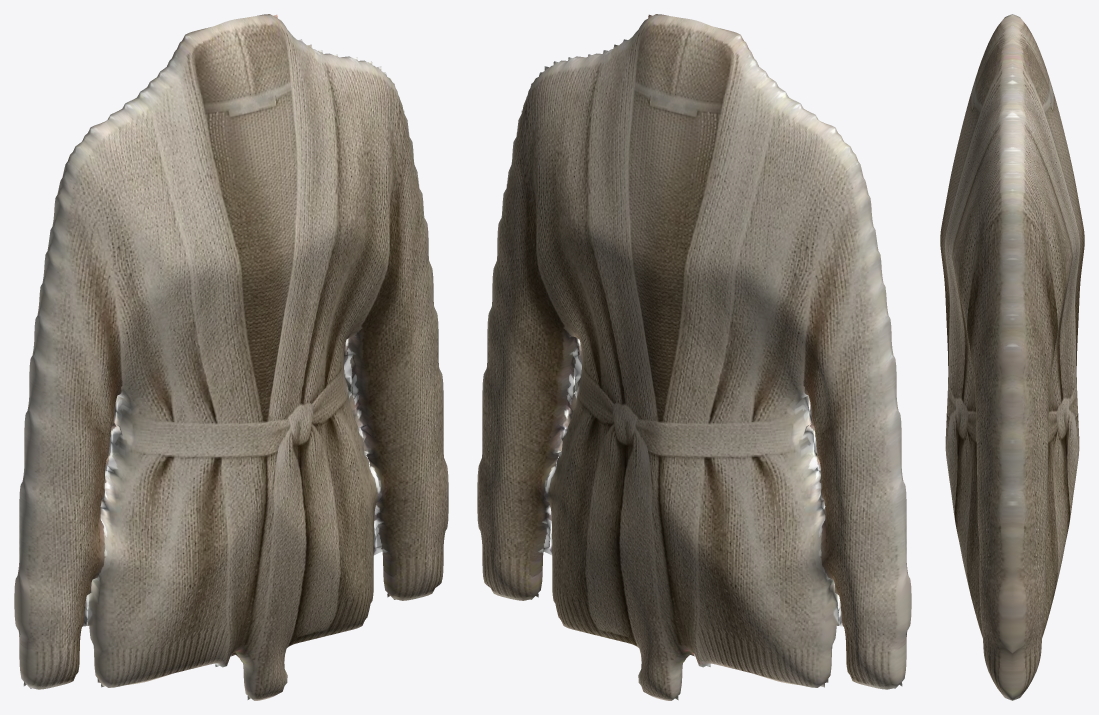
The model's file is prod-ae-linen-cinch-cardigan.glb.
3 renders of one model, left to right at view 1: azimuth 30°, elevation 25°; view 2: azimuth 150°, elevation 25°; view 3: azimuth 270°, elevation 25°, orthographic. The views are drawn at different scales.
Parts seen in each view (by area): view 1: prod-ae-linen-cinch-cardigan_standalone; view 2: prod-ae-linen-cinch-cardigan_standalone; view 3: prod-ae-linen-cinch-cardigan_standalone.
Part boxes in pixels (bbox=[...]): prod-ae-linen-cinch-cardigan_standalone: bbox=[14, 14, 448, 700]; prod-ae-linen-cinch-cardigan_standalone: bbox=[477, 14, 911, 700]; prod-ae-linen-cinch-cardigan_standalone: bbox=[940, 14, 1084, 700].
Bounding box in the file's own units: 0.3749 × 0.5793 × 0.1181.
Materials: 1 (1 with a texture image).
